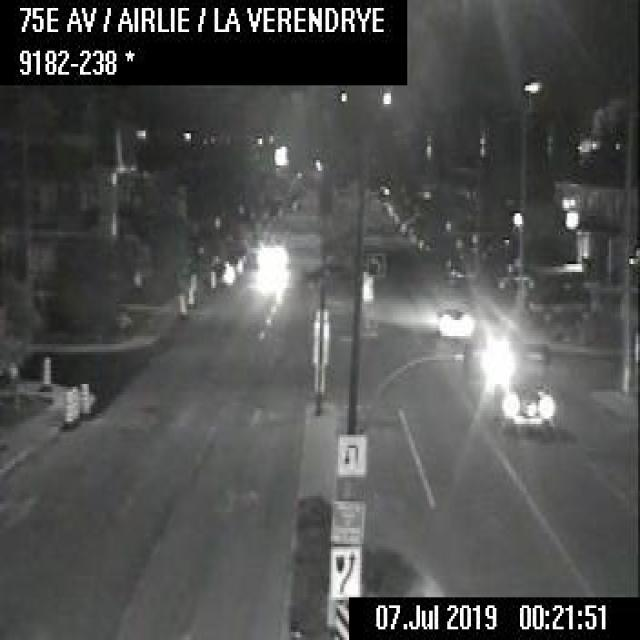construction: (60, 387, 71, 424), (78, 380, 89, 414), (40, 352, 49, 387), (70, 382, 78, 420), (177, 292, 187, 316), (207, 268, 214, 292), (186, 285, 194, 306), (189, 270, 196, 293)
vehicle: (498, 378, 558, 432), (526, 283, 590, 326), (429, 299, 475, 336), (212, 260, 234, 282)
